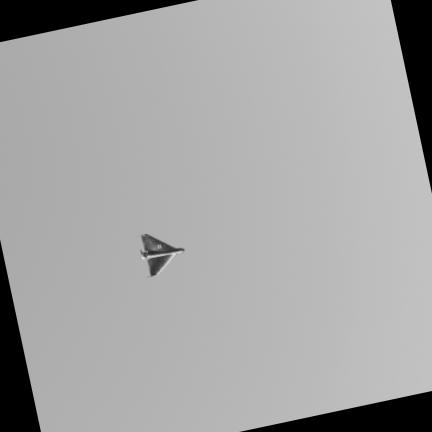Shahed: (141, 234, 184, 275)
